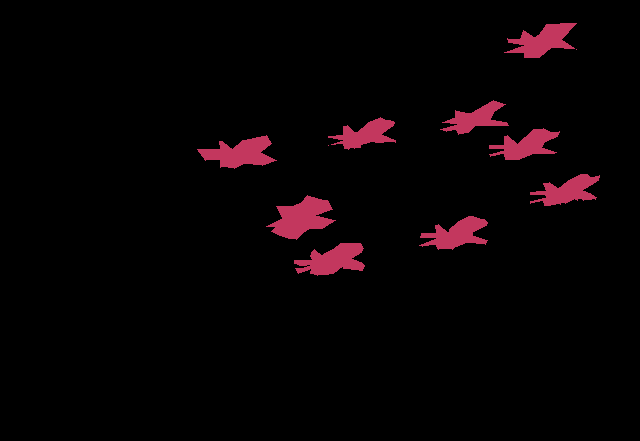Airplane: (266, 195, 336, 239), (197, 135, 276, 168), (504, 23, 577, 57), (440, 100, 509, 135), (294, 243, 364, 276), (419, 216, 487, 249), (489, 128, 559, 160), (328, 117, 396, 149), (530, 174, 600, 205)
